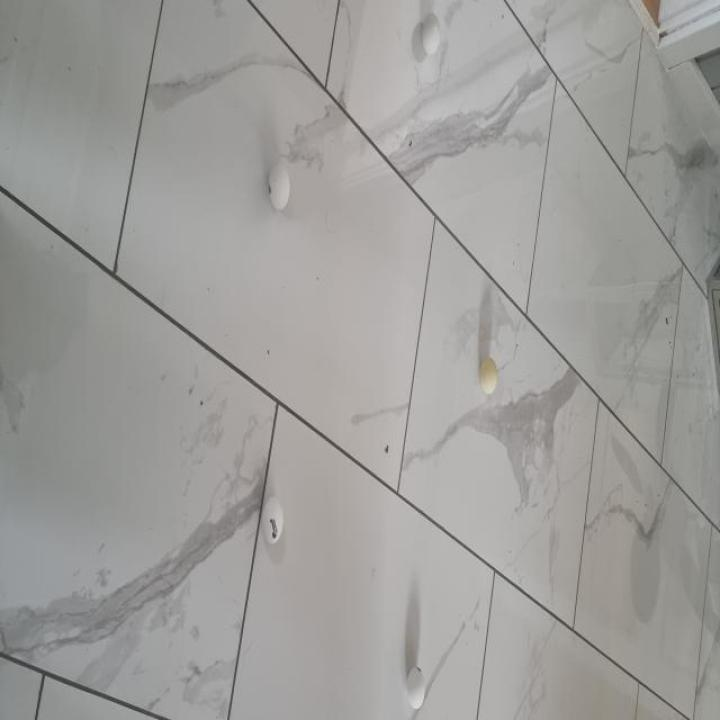white: (268, 160, 291, 210), (261, 495, 283, 543), (422, 12, 440, 56), (407, 667, 425, 709), (480, 355, 498, 395)
